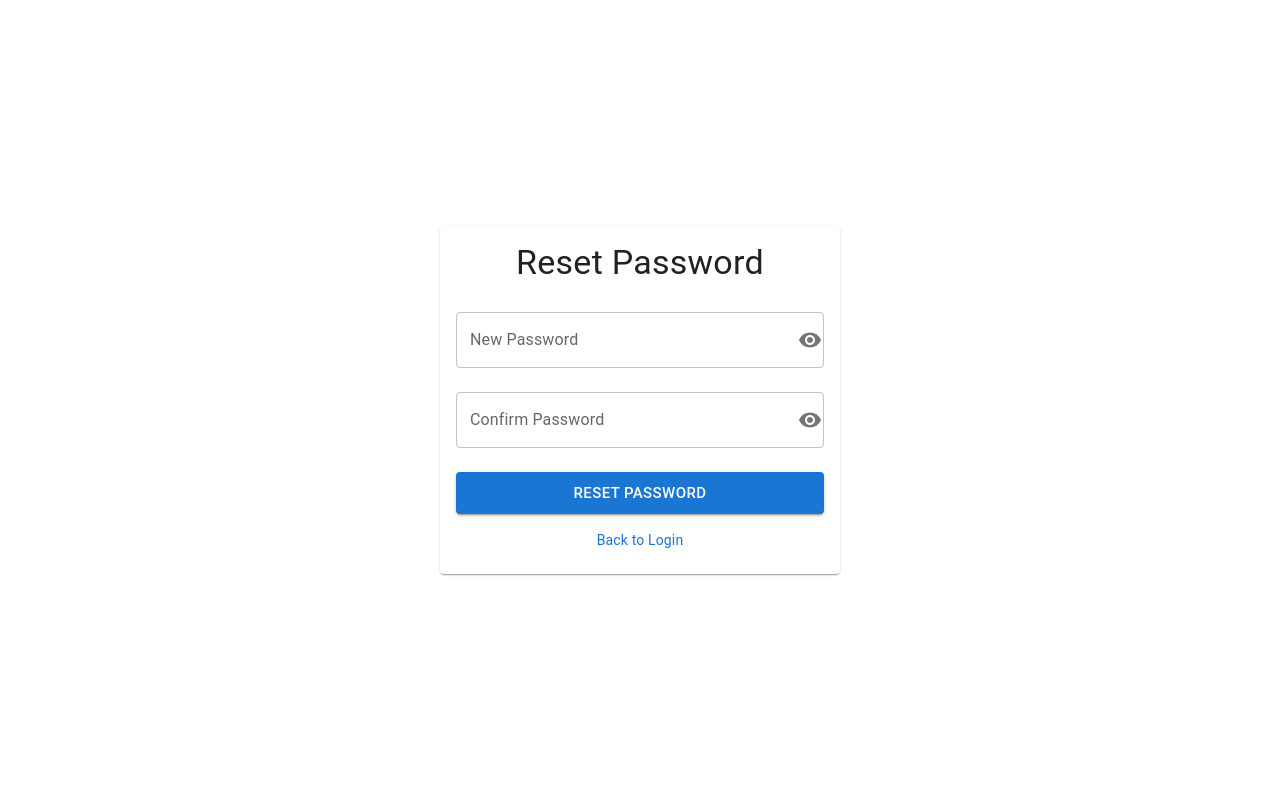
Test: ResetPasswordForm › should show validation error for empty confirm password
# Submit without confirm password
Type "password123" into the password field labelled "New Password" at (623, 340), box left=456, top=312, right=790, bottom=368
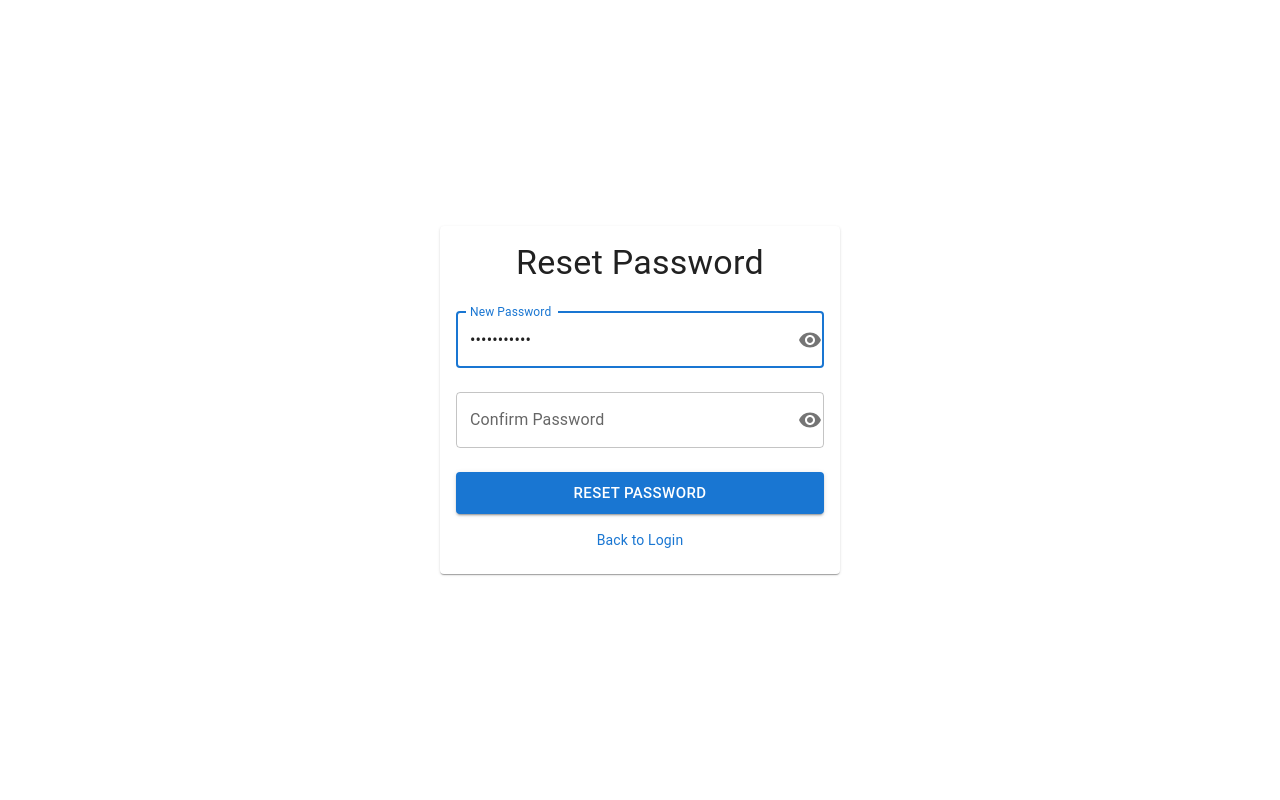
Click the button "Reset Password" at (640, 493), box left=456, top=472, right=824, bottom=514
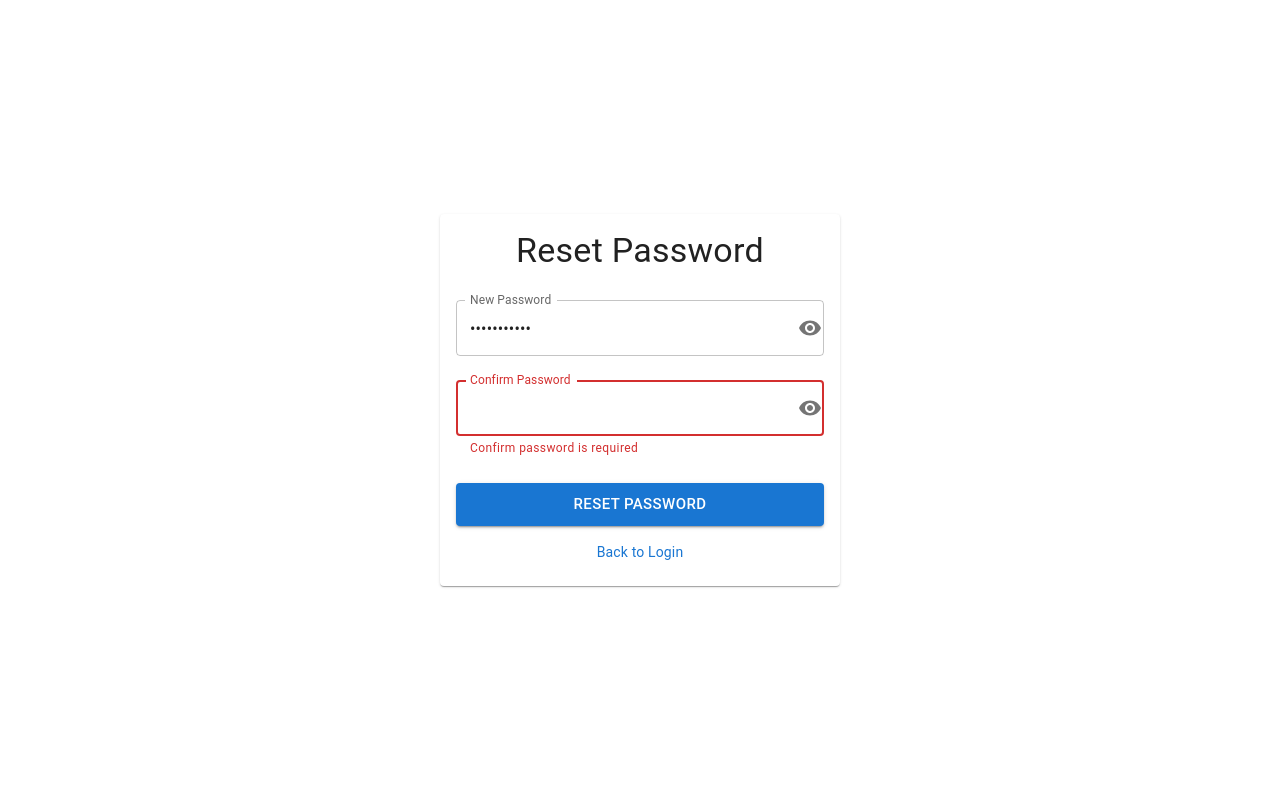
Expected: the text "Confirm password is required" is shown, left=470, top=441, right=638, bottom=455
